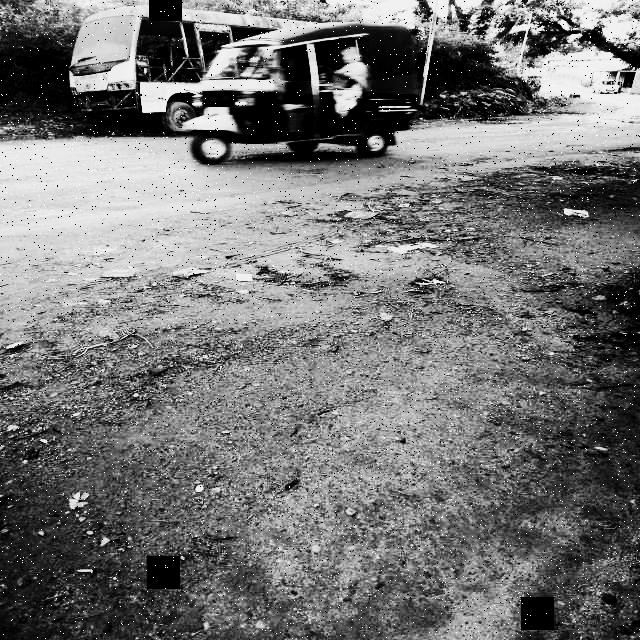Auto-Rickshaw: (185, 16, 423, 164)
